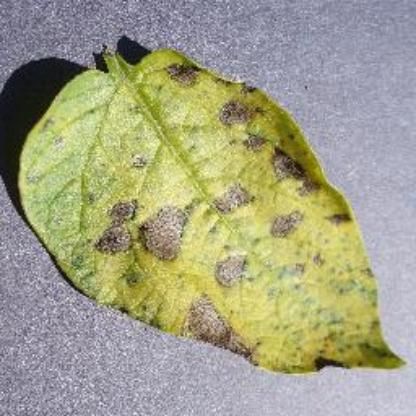Early-Blight: (14, 36, 410, 376)
